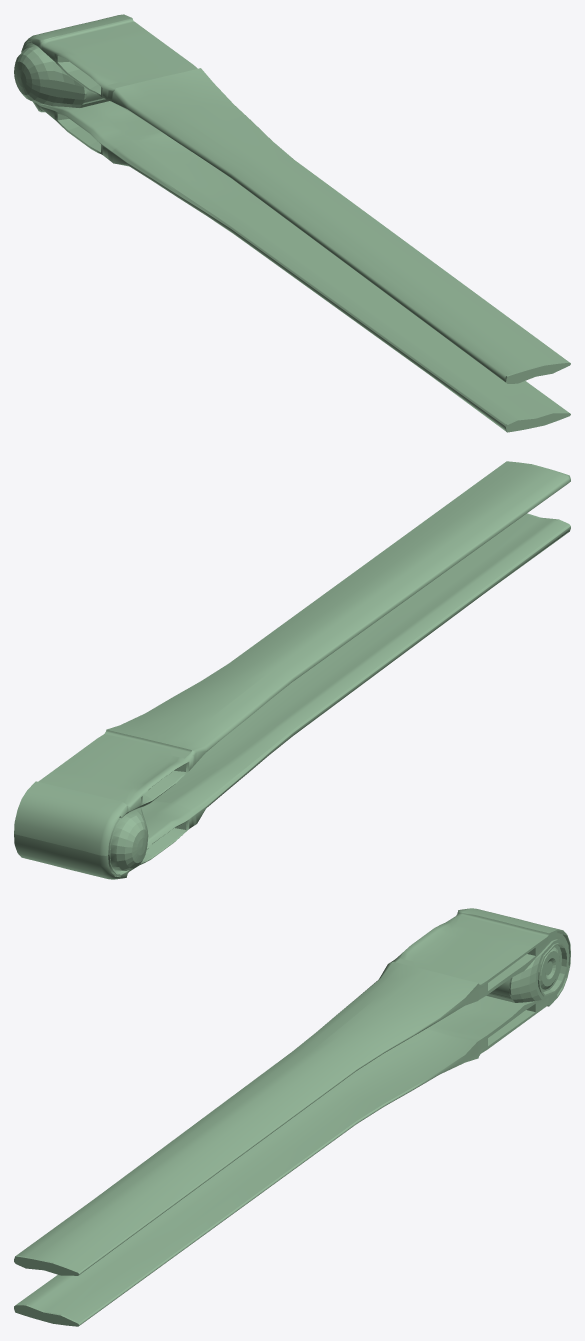
Rendered from Spyglass5.obj.
3 renders of one model, top to bottom at view 1: azimuth 30°, elevation 25°; view 2: azimuth 150°, elevation 25°; view 3: azimuth 330°, elevation 25°, orthographic.
Parts seen in each view (by area): view 1: wings, polySurface24 cockpit; view 2: wings, polySurface24 cockpit; view 3: wings, polySurface24 cockpit, door.
Boxes of the visible parts, x1=… form: wings: x1=21, y1=14, x2=570, y2=432; polySurface24 cockpit: x1=14, y1=46, x2=109, y2=107; wings: x1=14, y1=461, x2=570, y2=879; polySurface24 cockpit: x1=110, y1=807, x2=148, y2=870; wings: x1=14, y1=908, x2=570, y2=1326; polySurface24 cockpit: x1=486, y1=939, x2=568, y2=1002; door: x1=540, y1=947, x2=559, y2=989.
Size of the model in its own units: 10.77 by 6.97 by 79.21.
